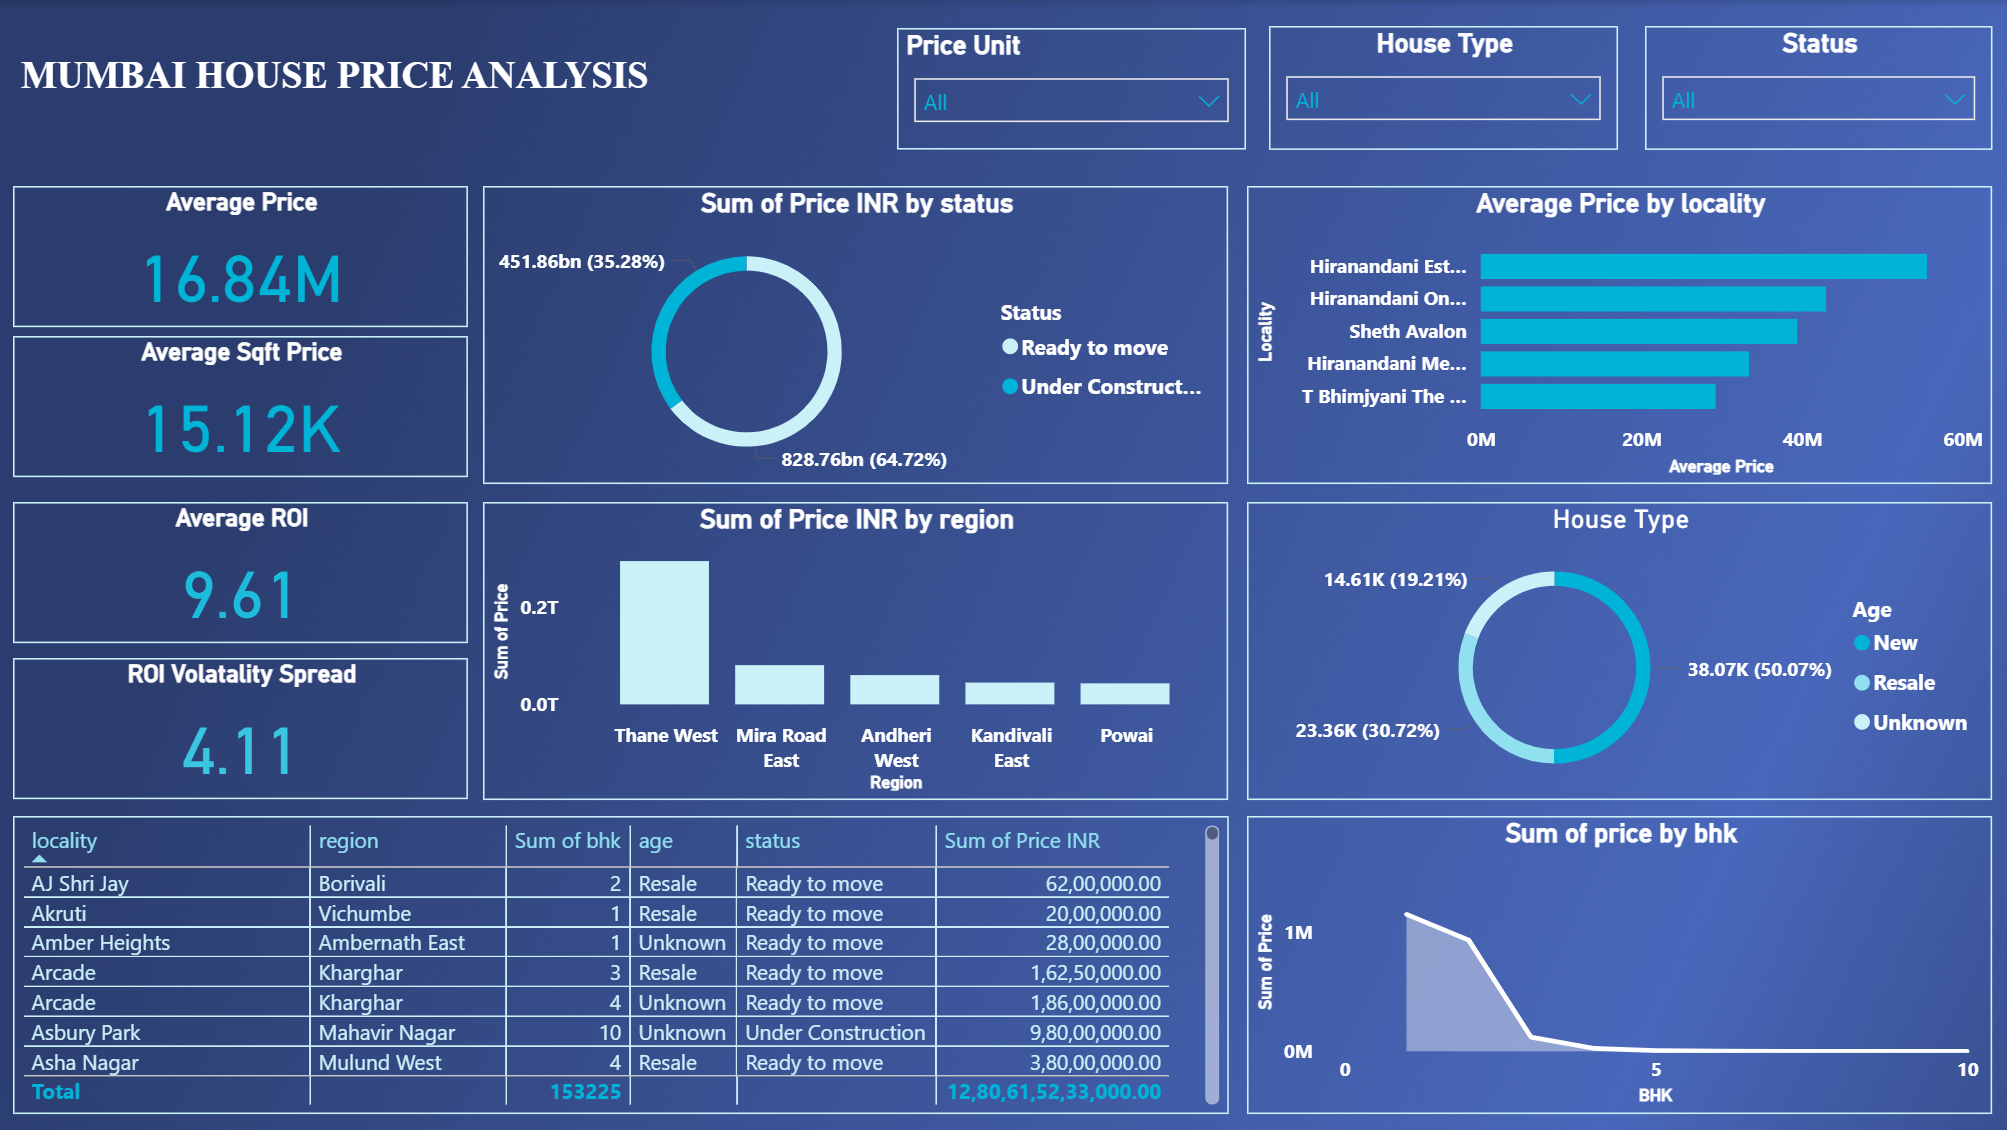

What the dashboard file says about the page in this screenshot:
{"tool":"powerbi","page":{"name":"Page 1","canvas":[1280,720],"ordinal":0},"visuals":[{"type":"slicer","title":"House Type","fields":{"Values":["mumbai_house_data.type"]},"box":[810,16.2,222.5,78.8],"z":0},{"type":"slicer","title":"Status","fields":{"Values":["mumbai_house_data.status"]},"box":[1048.8,16.2,221.2,78.8],"z":1000},{"type":"donutChart","title":"House Type ","fields":{"Category":["mumbai_house_data.age"],"Y":["CountNonNull(mumbai_house_data.price_unit)"]},"box":[795,320,475,190],"z":3000},{"type":"donutChart","fields":{"Category":["mumbai_house_data.status"],"Y":["Sum(mumbai_house_data.Price INR)"]},"box":[308.8,118.8,475,190],"z":4000},{"type":"card","title":"Average Sqft Price ","fields":{"Values":["mumbai_house_data.Average Price per SqFt"]},"box":[8.8,213.8,290,90],"z":5000},{"type":"columnChart","fields":{"Category":["mumbai_house_data.region"],"Y":["Sum(mumbai_house_data.Price INR)"]},"box":[308.8,320,475,190],"z":6000},{"type":"card","title":"Average ROI","fields":{"Values":["mumbai_house_data.Average ROI"]},"box":[8.8,320,290,90],"z":7000},{"type":"card","title":"ROI Volatality Spread","fields":{"Values":["mumbai_house_data.Volatility ROI Spread"]},"box":[8.8,420,290,90],"z":8000},{"type":"barChart","fields":{"Category":["mumbai_house_data.locality"],"Y":["mumbai_house_data.Average Price"]},"box":[795,118.8,475,190],"z":9000},{"type":"areaChart","fields":{"Category":["mumbai_house_data.bhk"],"Y":["Sum(mumbai_house_data.price)"]},"box":[795,520,475,190],"z":10000},{"type":"tableEx","fields":{"Values":["mumbai_house_data.locality","mumbai_house_data.region","Sum(mumbai_house_data.bhk)","mumbai_house_data.age","mumbai_house_data.status","Sum(mumbai_house_data.Price INR)"]},"box":[8.8,520,775,190],"z":11000},{"type":"card","title":"Average Price","fields":{"Values":["mumbai_house_data.Average Price"]},"box":[8.8,118.8,290,90],"z":12000},{"type":"textbox","box":[8.9,29.3,430.9,53.5],"z":13000},{"type":"slicer","title":"Price Unit","fields":{"Values":["mumbai_house_data.price_unit"]},"box":[572.5,17.5,222.5,77.5],"z":14000}]}

Visuals, with their boxes in screenshot pixels (x1, y1, x2, y2), scaled from the page's 1280x720 canvas onto the 2007x1130 screenshot:
"House Type" slicer: select_region(1270, 25, 1619, 149)
"Status" slicer: select_region(1644, 25, 1991, 149)
"House Type " donutChart: select_region(1247, 502, 1991, 800)
donutChart - mumbai_house_data.status x Sum(mumbai_house_data.Price INR): select_region(484, 186, 1229, 485)
"Average Sqft Price " card: select_region(14, 336, 469, 477)
columnChart - mumbai_house_data.region x Sum(mumbai_house_data.Price INR): select_region(484, 502, 1229, 800)
"Average ROI" card: select_region(14, 502, 469, 643)
"ROI Volatality Spread" card: select_region(14, 659, 469, 800)
barChart - mumbai_house_data.locality x mumbai_house_data.Average Price: select_region(1247, 186, 1991, 485)
areaChart - mumbai_house_data.bhk x Sum(mumbai_house_data.price): select_region(1247, 816, 1991, 1114)
tableEx - mumbai_house_data.locality x mumbai_house_data.region: select_region(14, 816, 1229, 1114)
"Average Price" card: select_region(14, 186, 469, 328)
textbox: select_region(14, 46, 690, 130)
"Price Unit" slicer: select_region(898, 27, 1247, 149)
